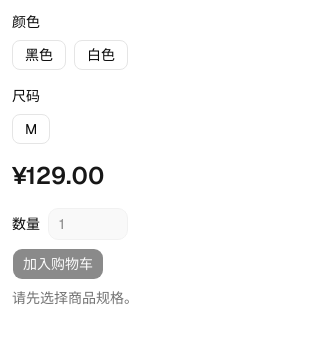
Test: 「加入购物车」按钮 › 失败时透出后端返回的 message，而不是笼统的「加入购物车失败」
Click the button "黑色": (39, 55) x1=12 y1=40 x2=66 y2=70
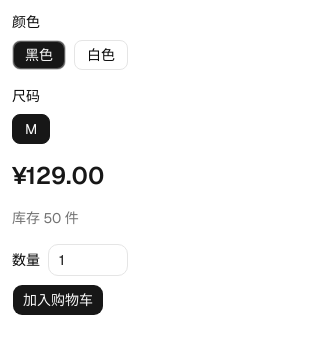
Click the button "M": (31, 129) x1=12 y1=114 x2=50 y2=144
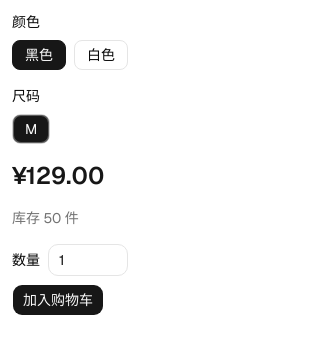
Click the button "加入购物车": (58, 300) x1=12 y1=284 x2=104 y2=316
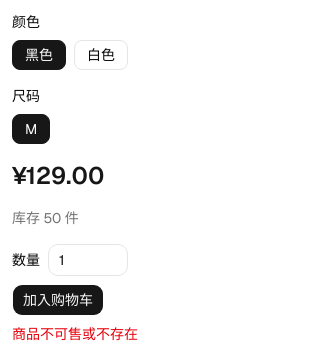
Expected: the text "商品不可售或不存在" is shown, x1=12 y1=325 x2=138 y2=343
